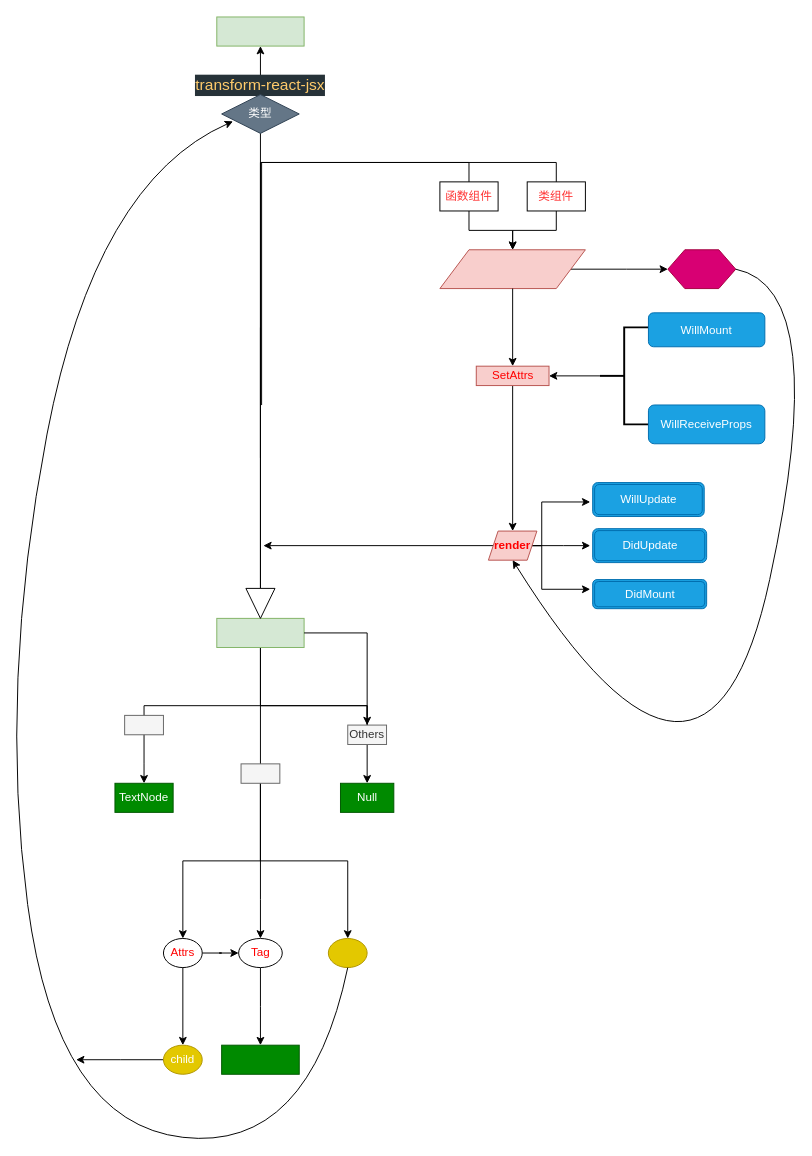
Image size: 812x1156. Some labels were removed from this diagram. Here are the shapes that lost their labels. From the top down, the centre of each, then its label:
(260,31): JSX
(512,269): createComponent
(701,269): setState
(260,632): 原生
(143,724): String
(260,773): Object
(347,953): childs
(260,1059): Element
